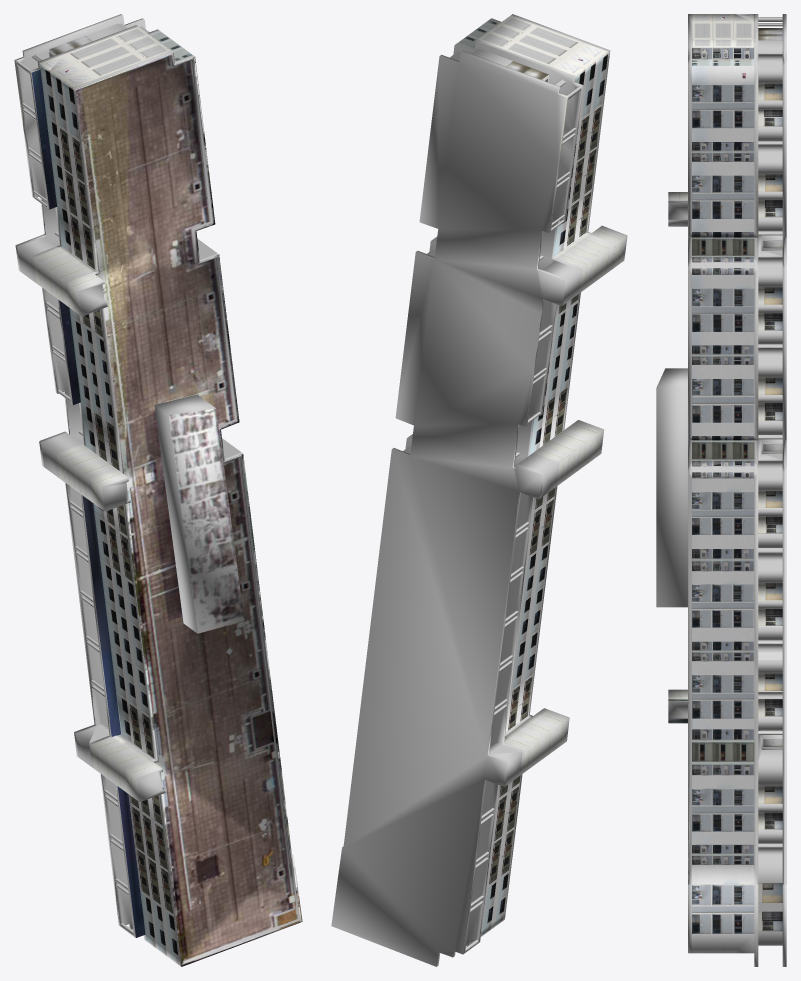
Rendered from amk_blk728_building.obj.
The picture shows the model from 3 angles, left to right: view 1: azimuth 30°, elevation 25°; view 2: azimuth 150°, elevation 25°; view 3: azimuth 270°, elevation 25°; orthographic projection. The views are drawn at different scales.
Visible parts, largest first — view 1: polygon.871; view 2: polygon.871; view 3: polygon.871.
Boxes of the visible parts, box(x1,y1,x2,y2) form: polygon.871: box(14, 14, 302, 966); polygon.871: box(331, 14, 627, 966); polygon.871: box(656, 14, 786, 966).
Bounding box in the file's own units: 32.53 × 122 × 16.46.
Materials: 1 (1 with a texture image).
